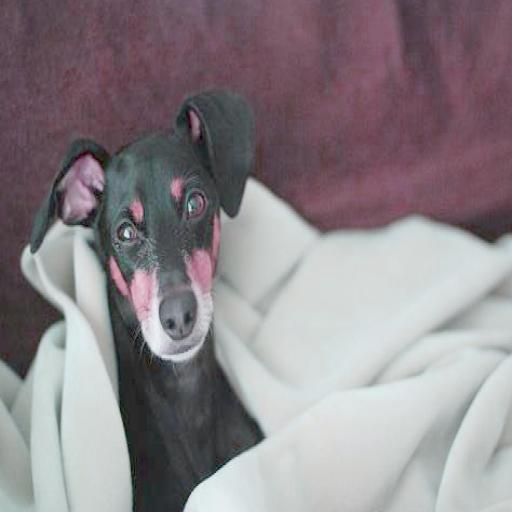dog_face: (42, 98, 244, 367)
